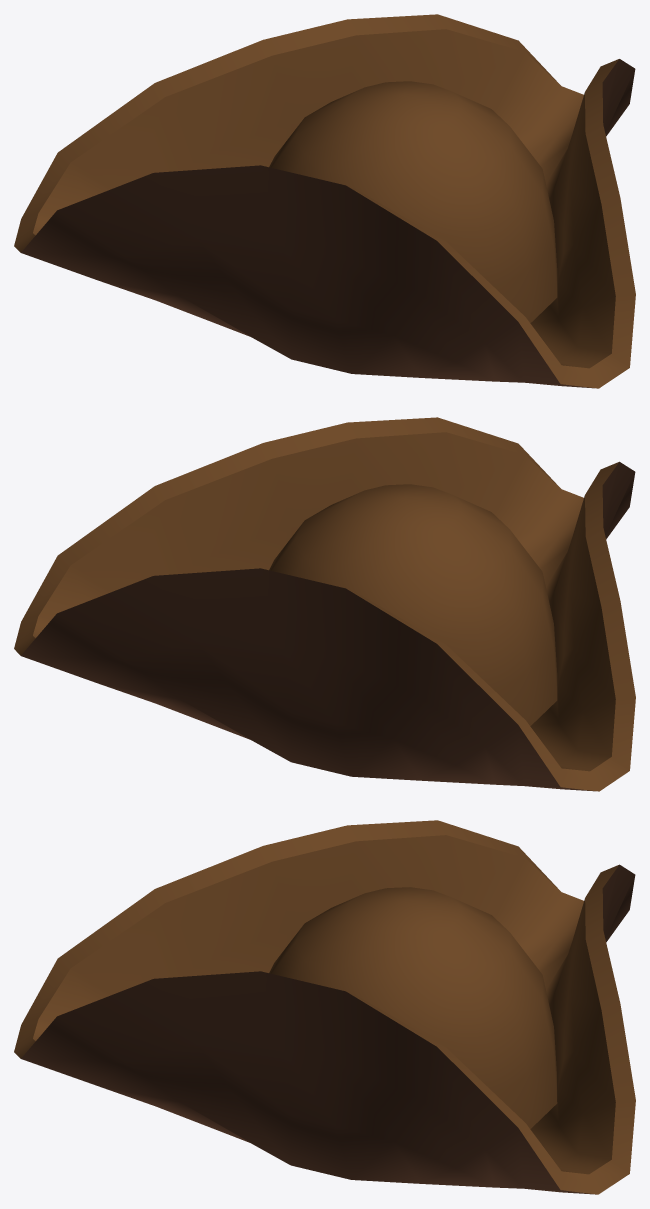
The model's file is Pirate_Hat.fbx.
3 renders of one model, top to bottom at view 1: azimuth 30°, elevation 25°; view 2: azimuth 150°, elevation 25°; view 3: azimuth 270°, elevation 25°, orthographic.
Parts seen in each view (by area): view 1: Pirate_Hat; view 2: Pirate_Hat; view 3: Pirate_Hat.
Part boxes in pixels (<box>): Pirate_Hat: <box>14,14,635,388</box>; Pirate_Hat: <box>14,417,635,791</box>; Pirate_Hat: <box>14,820,635,1194</box>.
Bounding box in the file's own units: 26.17 × 8.75 × 23.15.
